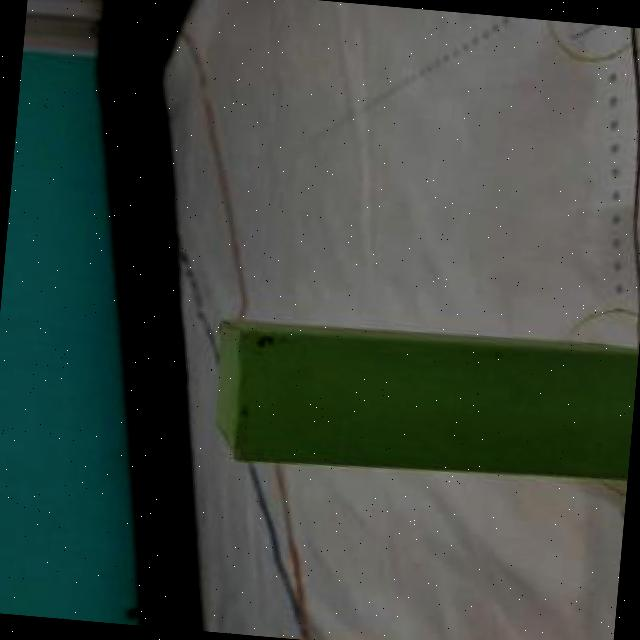greenbox: (204, 308, 639, 496)
